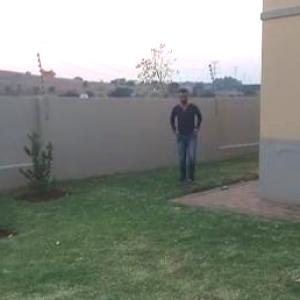follow: (170, 85, 206, 192)
